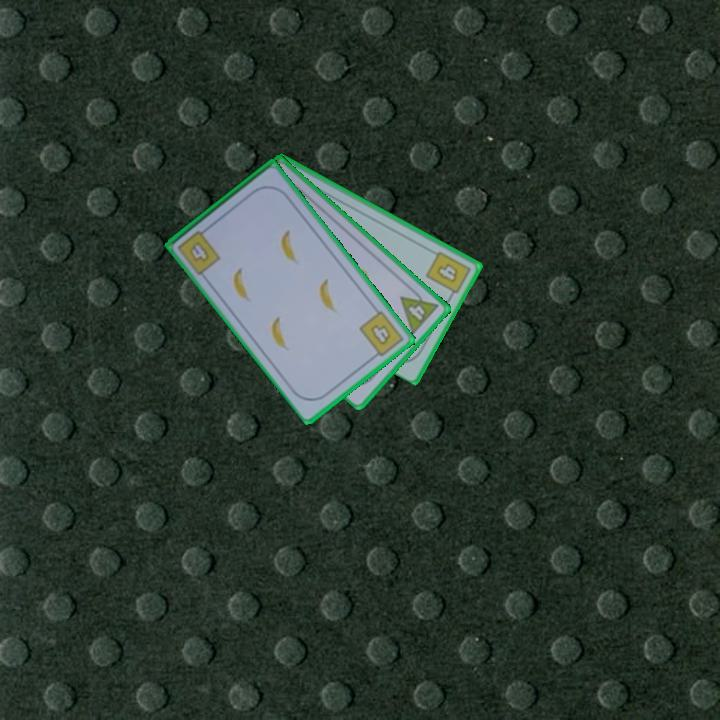4b: (422, 247, 474, 301), (356, 307, 407, 362), (174, 223, 224, 278)
4p: (397, 283, 441, 337)
